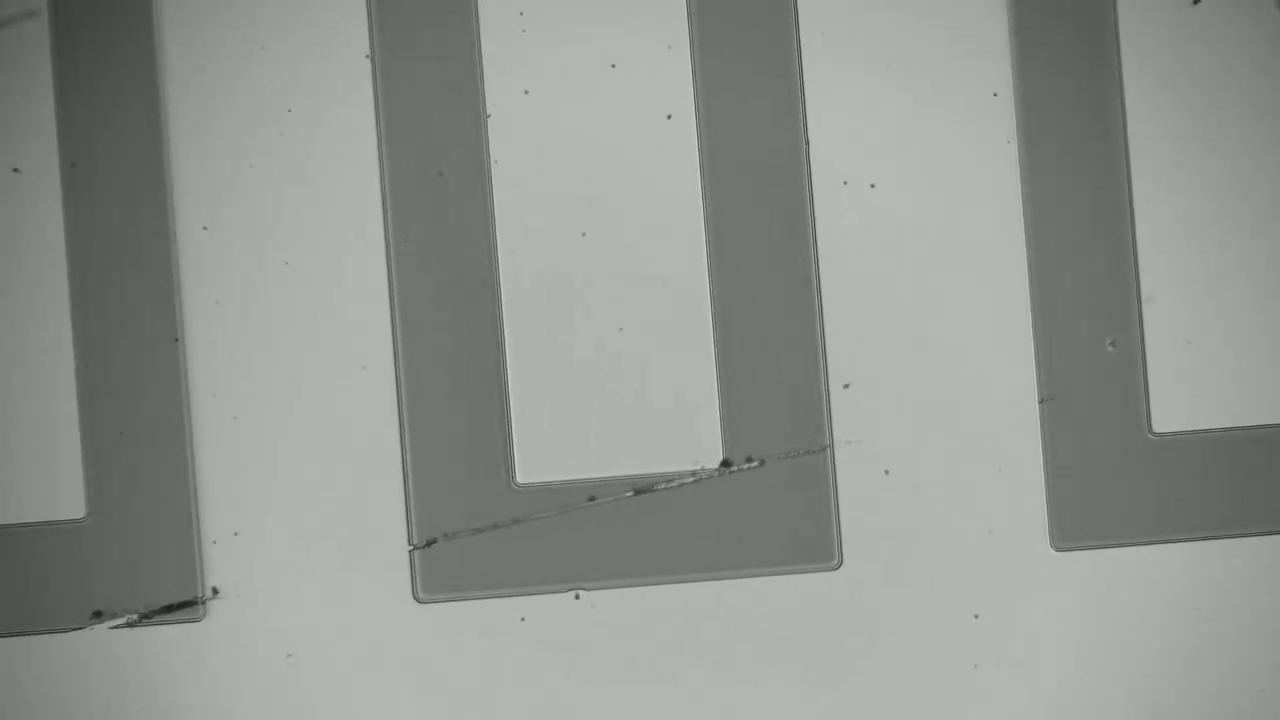scratch: (425, 450, 822, 544), (86, 589, 206, 623)
